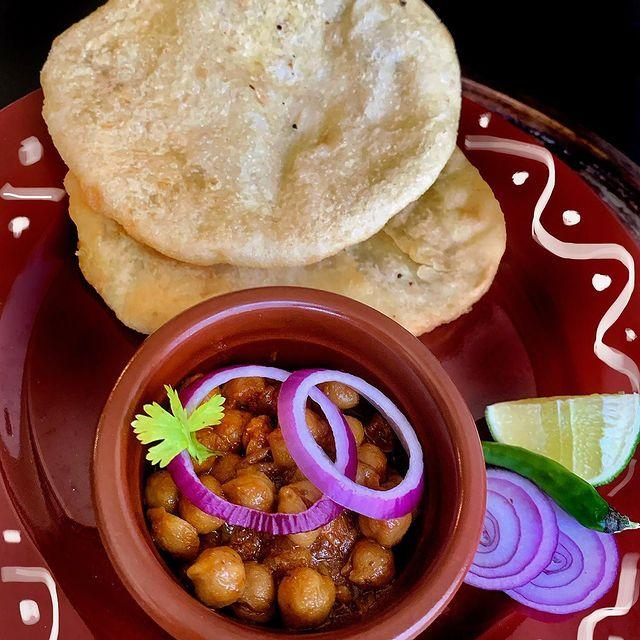Chole: (158, 362, 386, 628)
